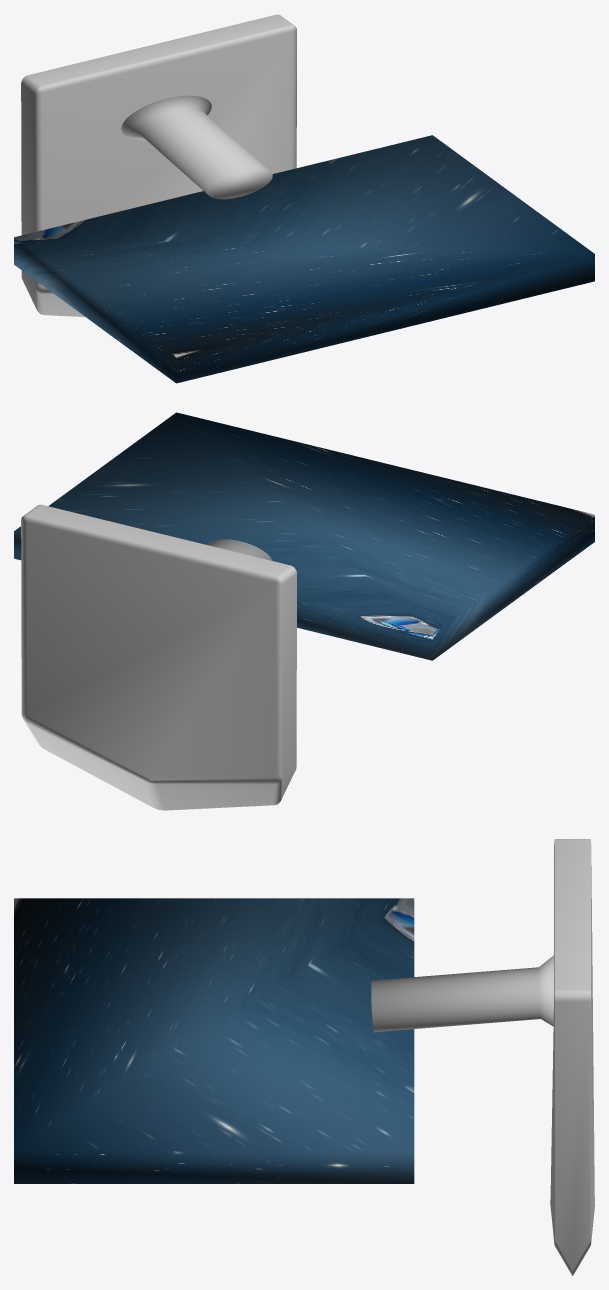
File: monitor_v1.obj
3 renders of one model, top to bottom at view 1: azimuth 30°, elevation 25°; view 2: azimuth 150°, elevation 25°; view 3: azimuth 270°, elevation 25°, orthographic. The views are drawn at different scales.
Visible parts, largest first — view 1: Cube_001_Cube_002, Cube_Cube_001, Cylinder_Cylinder; view 2: Cube_Cube_001, Cube_001_Cube_002, Cylinder_Cylinder; view 3: Cube_001_Cube_002, Cube_Cube_001, Cylinder_Cylinder.
Part boxes in pixels (x1,y1,x2,y2): Cube_001_Cube_002: [14, 135, 594, 383]; Cube_Cube_001: [21, 14, 296, 316]; Cylinder_Cylinder: [121, 95, 272, 199]; Cube_Cube_001: [21, 504, 296, 810]; Cube_001_Cube_002: [14, 412, 594, 660]; Cylinder_Cylinder: [206, 539, 272, 560]; Cube_001_Cube_002: [14, 898, 414, 1183]; Cube_Cube_001: [550, 839, 594, 1275]; Cylinder_Cylinder: [371, 955, 553, 1032].
Bounding box in the file's own units: 0.032 × 0.0197 × 0.0312.
Materials: 5 (1 with a texture image).
